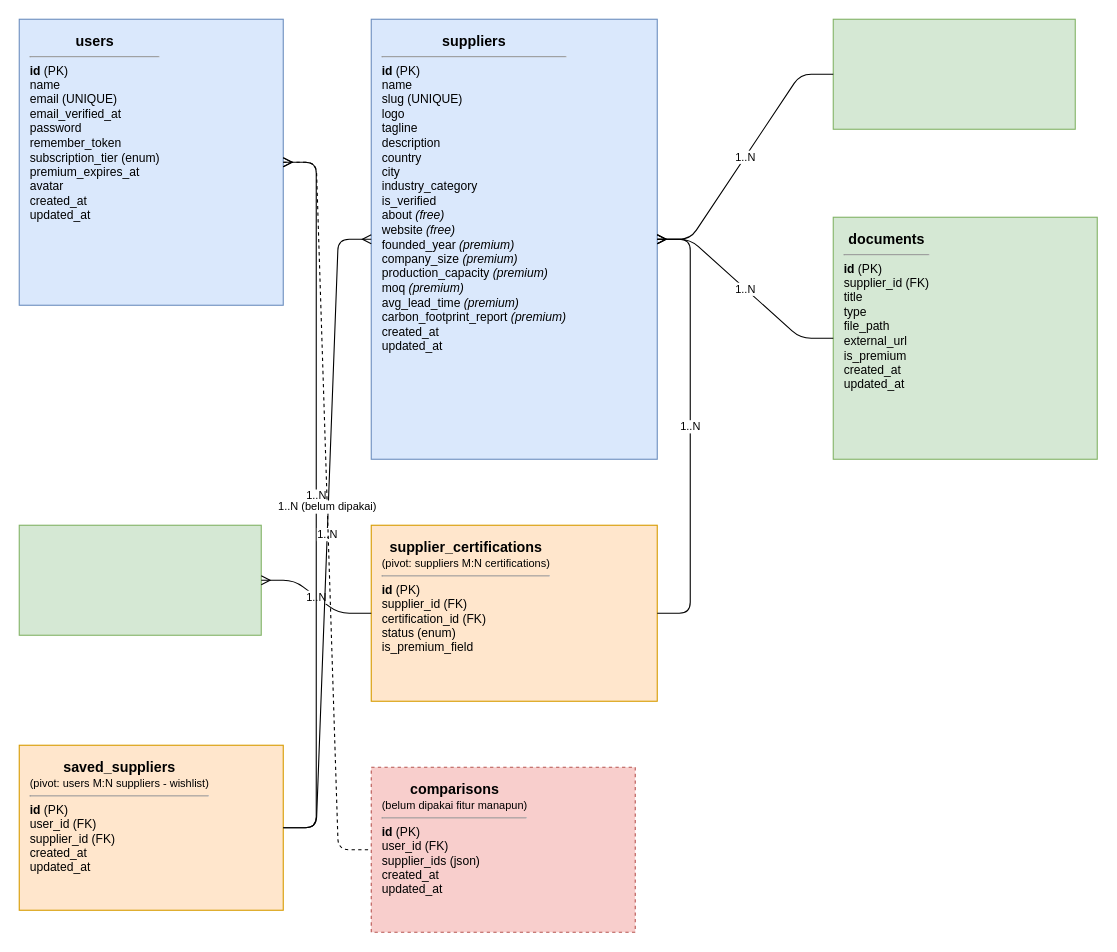
This 1117x952 diagram has some shape labels left out. Here are the shapes that lost their labels. From the top down, the centre of each, then its label:
At [953,73]: "supplier_tags id (PK) supplier_id (FK) tag_name".
At [139,579]: "certifications id (PK) name category".
